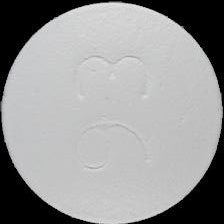0093-8166: (0, 0, 224, 224)
